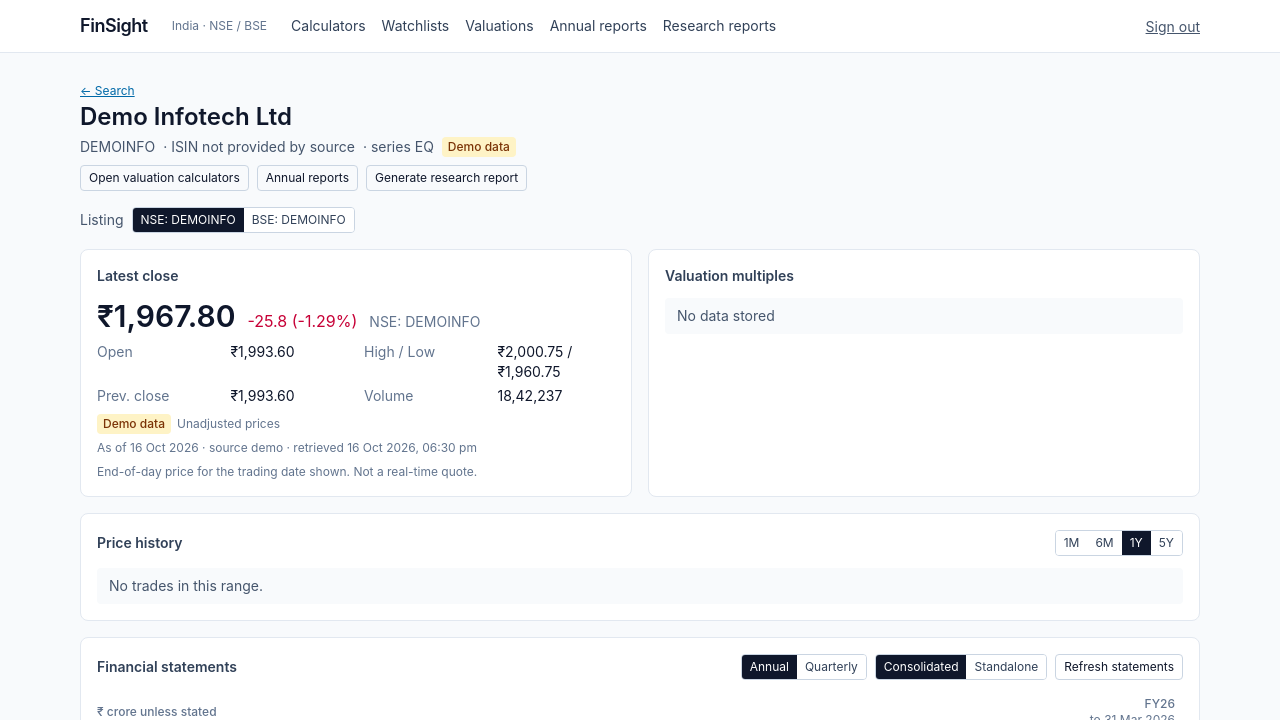
Scenario: company research page › renders statements in ₹ crore and switches between consolidated and standalone
expect the text "FY26" is shown: met, box [1145,696,1175,711]
Click the button "Standalone": click(1006, 667) [966,655,1046,679]
(page scrolled)
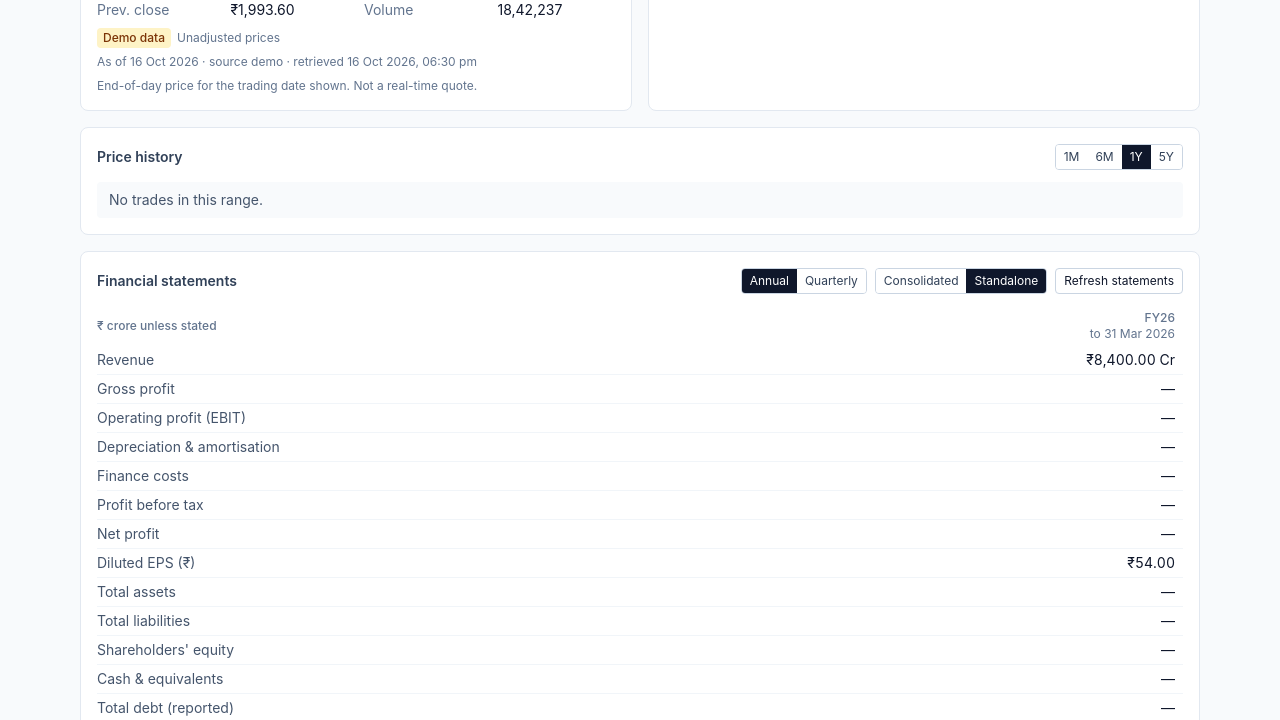
expect the text "₹8,400.00 Cr" is shown: met, box [787,346,1183,374]
